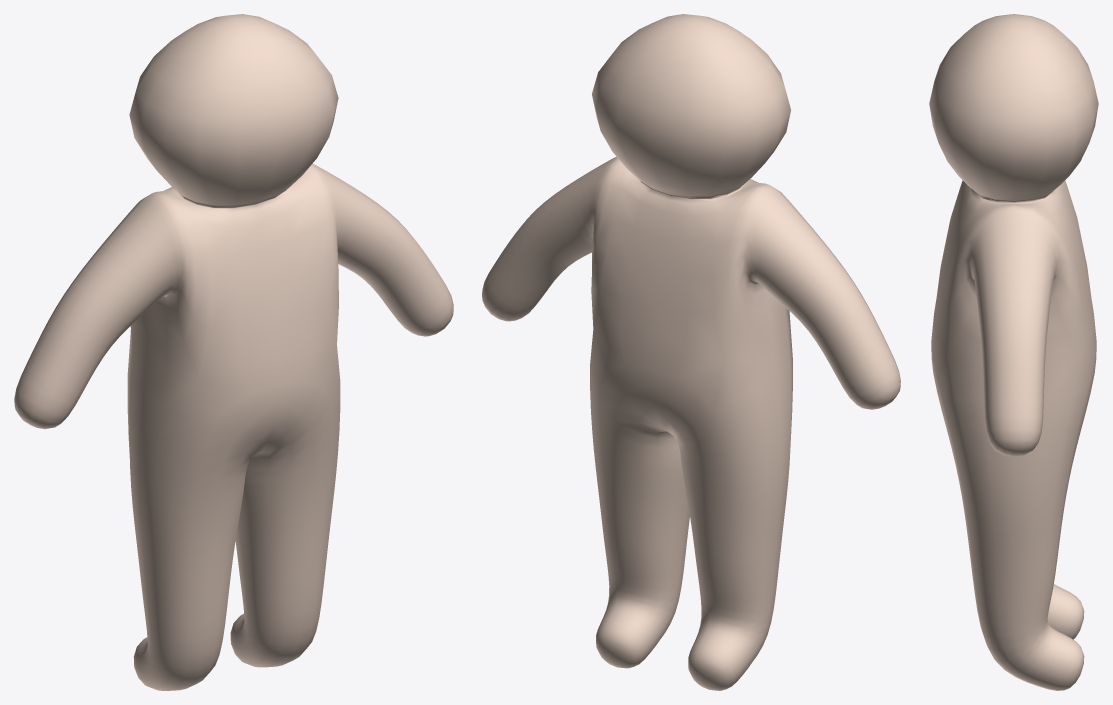
File: character_A_stylized.glb
3 views of the same model, side by side, from view 1: azimuth 30°, elevation 25°; view 2: azimuth 150°, elevation 25°; view 3: azimuth 270°, elevation 25° (orthographic). The views are drawn at different scales.
Parts seen in each view (by area): view 1: A_stylized; view 2: A_stylized; view 3: A_stylized.
Boxes of the visible parts, x1,y1,x2,y2 form: A_stylized: [14, 14, 453, 690]; A_stylized: [482, 14, 900, 690]; A_stylized: [929, 14, 1098, 690].
Bounding box in the file's own units: 0.7854 × 1.17 × 0.2787.
